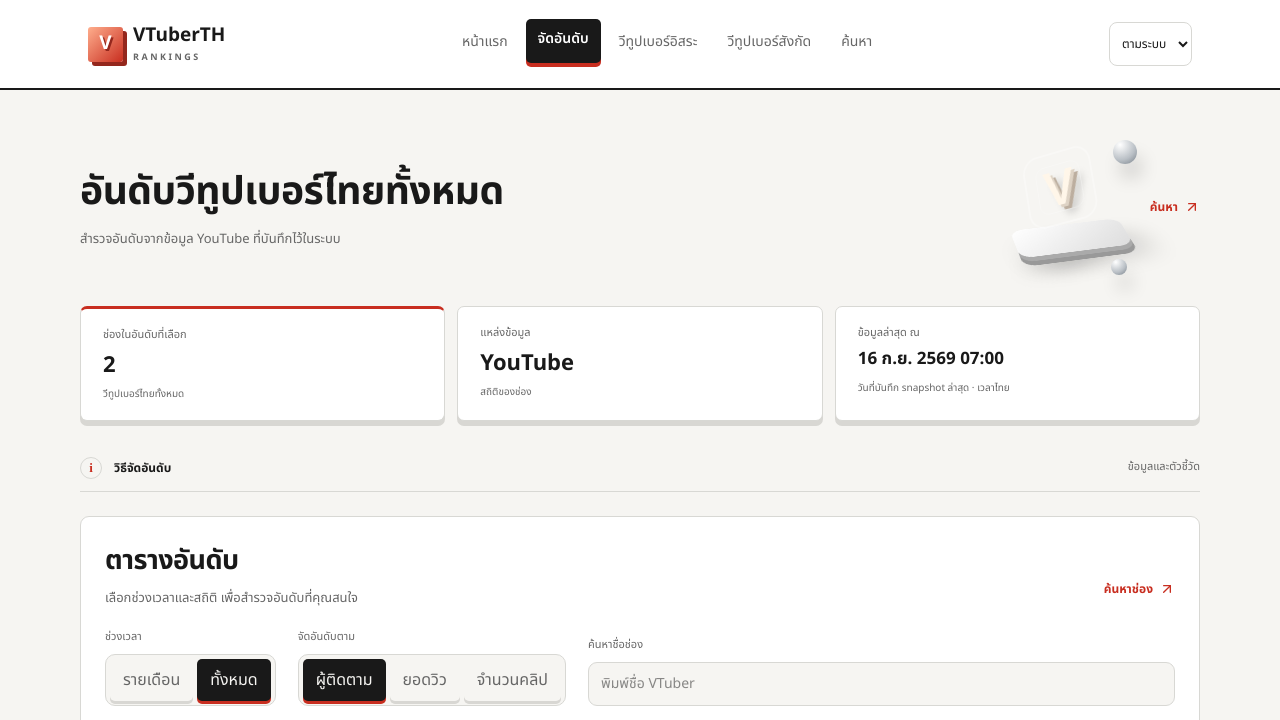
Public stats journey › explains the site and shows summary figures and stubbed channels
This screenshot has width=1280, height=720.
Expected: the heading "อันดับวีทูปเบอร์ไทยทั้งหมด" is shown, [80,164,504,222]
Expected: the text "2" is shown, [103,348,116,382]
Click the heading "วิธีจัดอันดับ ข้อมูลและตัวชี้วัด" at (143, 468), box [114,458,1200,476]
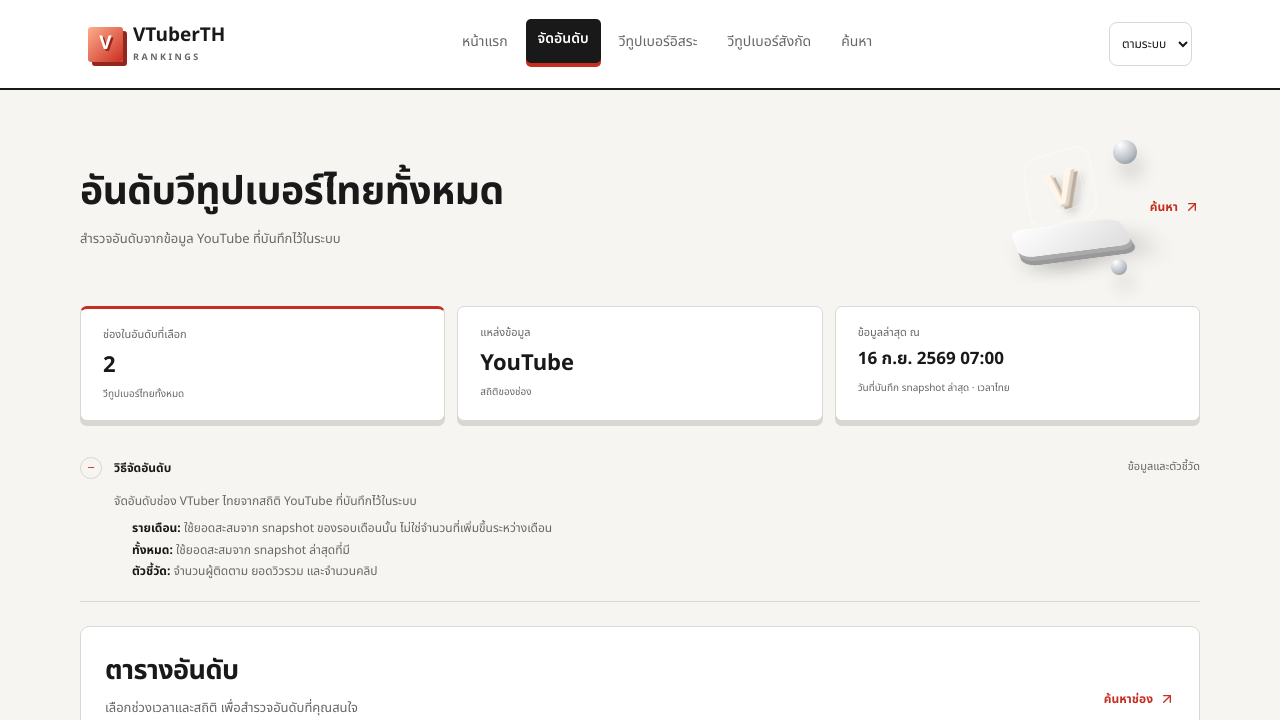
Expected: the text "รายเดือน:" is shown, [132,519,181,537]
